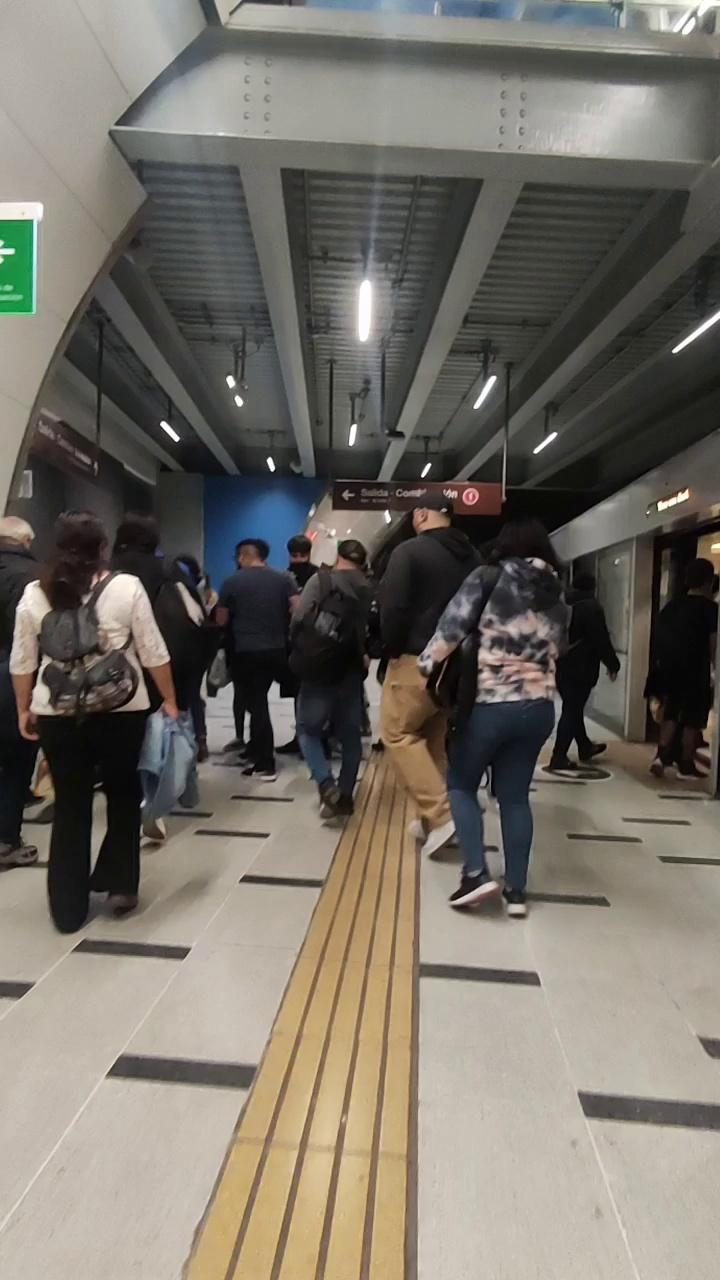left arrow: (341, 489, 356, 505)
